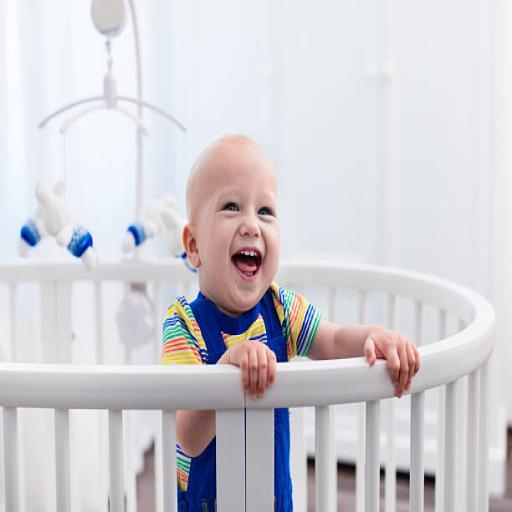baby: (162, 136, 419, 397)
crib: (0, 260, 397, 511)
